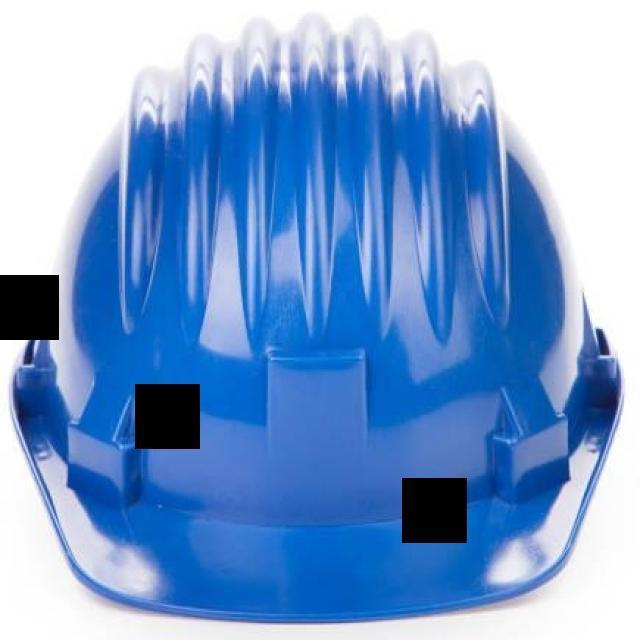blue helmet: (53, 55, 595, 584)
